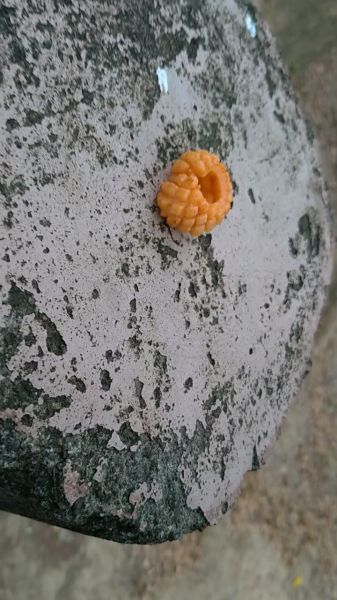eggs: (151, 143, 241, 237)
